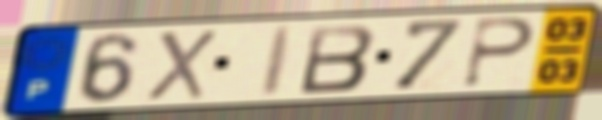6: (76, 30, 145, 107)
7: (396, 18, 468, 94)
B: (297, 22, 379, 96)
I: (257, 23, 300, 99)
P: (458, 15, 539, 90)
X: (143, 28, 220, 103)
